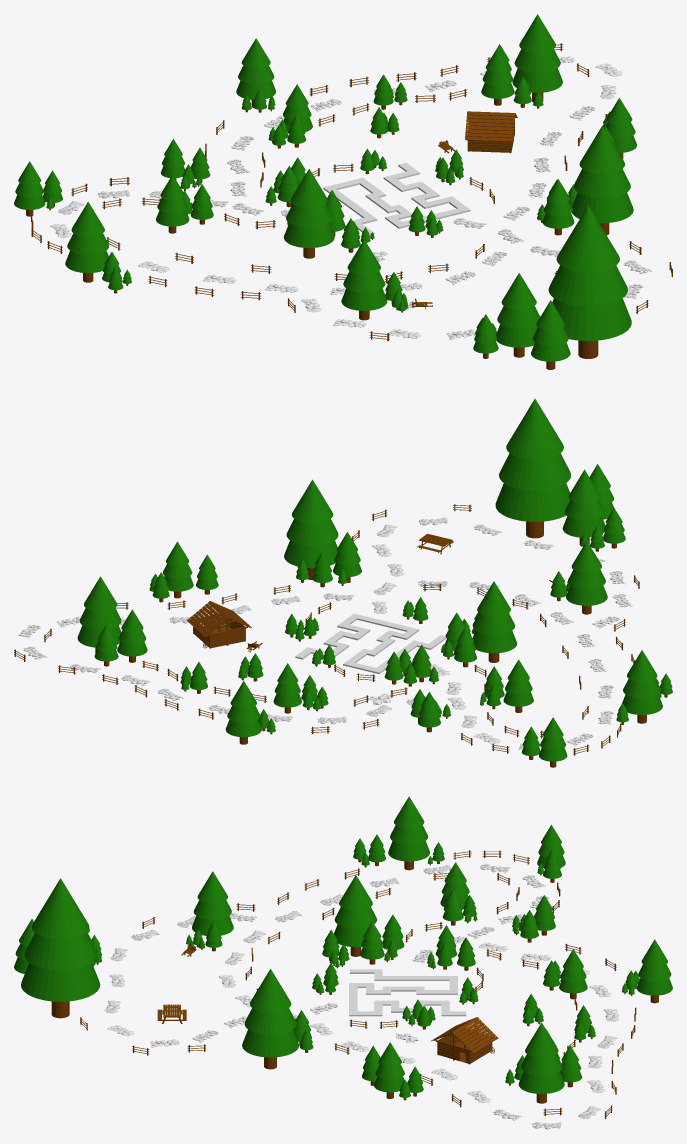
File: map.fbx
The picture shows the model from 3 angles, top to bottom: view 1: azimuth 30°, elevation 25°; view 2: azimuth 150°, elevation 25°; view 3: azimuth 270°, elevation 25°; orthographic projection. The views are drawn at different scales.
Visible parts, largest first — view 1: tree.073, tree.078, Path, tree.039, tree.083, tree.072, tree.066, tree.060, House, tree.074, tree.052, tree.036 (+8 smaller); view 2: tree.073, tree.078, Path, tree.039, tree.072, House, tree.066, tree.083, tree.060, tree.052, tree.091, tree.036 (+10 smaller); view 3: tree.073, tree.078, Path, tree.083, tree.039, House, tree.060, tree.066, tree.052, tree.091, tree.044, tree.036 (+6 smaller).
Boxes of the visible parts, x1,y1,x2,y2 form: tree.073: (548, 205, 631, 358); tree.078: (572, 125, 633, 235); Path: (323, 163, 470, 235); tree.039: (284, 169, 334, 258); tree.083: (512, 14, 562, 102); tree.072: (496, 273, 540, 357); tree.066: (341, 239, 387, 320); tree.060: (65, 202, 108, 282); House: (465, 111, 517, 153); tree.074: (531, 300, 570, 369); tree.052: (236, 38, 275, 107); tree.036: (156, 174, 189, 233); tree.073: (495, 398, 570, 538); tree.078: (284, 479, 338, 579); Path: (295, 613, 446, 673); tree.039: (472, 581, 517, 662); tree.072: (562, 469, 605, 546); House: (187, 601, 251, 648); tree.066: (566, 541, 607, 614); tree.083: (77, 576, 121, 653); tree.060: (622, 650, 662, 723); tree.052: (225, 681, 261, 744); tree.091: (163, 541, 193, 598); tree.036: (503, 659, 533, 712); tree.073: (21, 878, 100, 1018); tree.078: (242, 969, 298, 1069); Path: (349, 969, 466, 1016); tree.083: (518, 1022, 564, 1103); tree.039: (334, 875, 376, 956); House: (431, 1017, 498, 1064); tree.060: (388, 796, 429, 870); tree.066: (192, 871, 233, 935); tree.052: (636, 939, 672, 1003); tree.091: (374, 1042, 404, 1098); tree.044: (559, 949, 587, 999); tree.036: (440, 862, 469, 908).
Size of what is drawn, in the model's own units: 7837 by 2262 by 7861.
